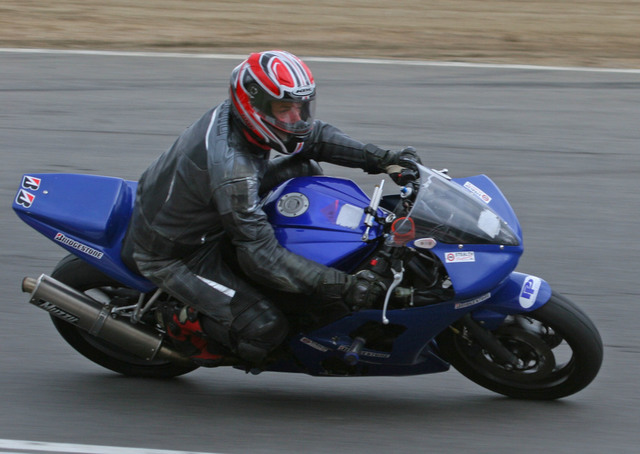helmet: (229, 54, 318, 151)
